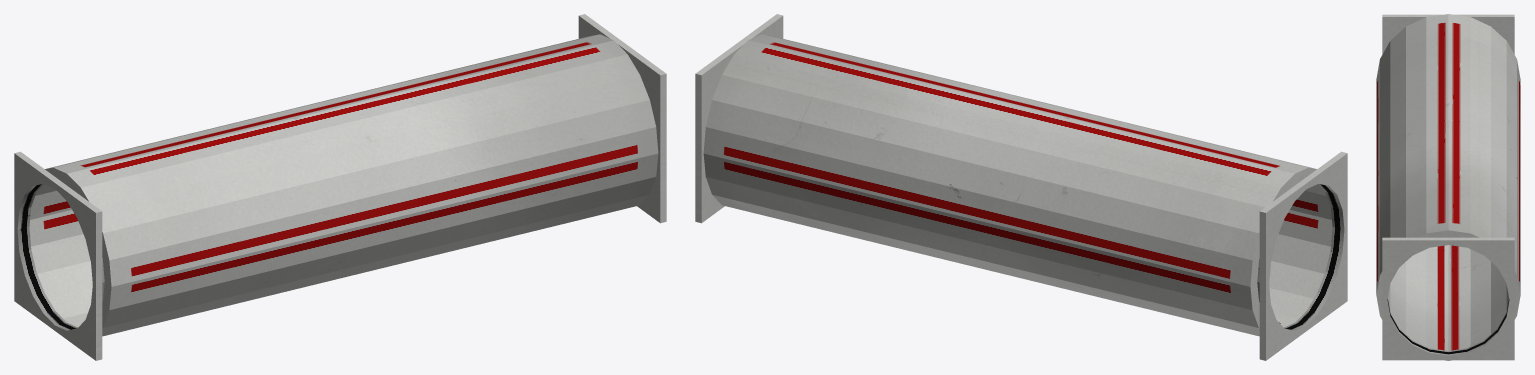
Rendered from Hall.fbx.
The picture shows the model from 3 angles, left to right: view 1: azimuth 30°, elevation 25°; view 2: azimuth 150°, elevation 25°; view 3: azimuth 270°, elevation 25°; orthographic projection. The views are drawn at different scales.
Parts seen in each view (by area): view 1: polySurface3; view 2: polySurface3; view 3: polySurface3.
Boxes of the visible parts, box(x1,y1,x2,y2) form: polySurface3: box(14, 14, 666, 360); polySurface3: box(695, 14, 1347, 360); polySurface3: box(1376, 14, 1520, 360).
Bounding box in the file's own units: 32.28 × 8.72 × 8.72.
